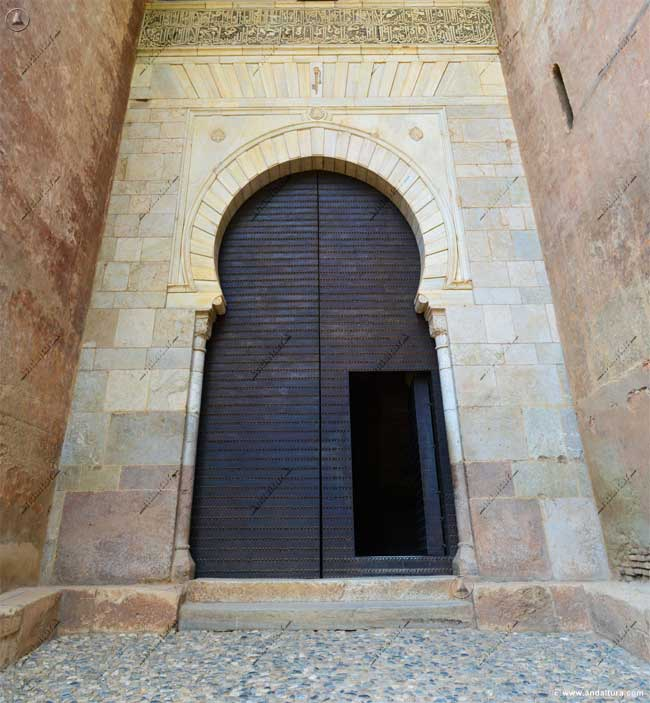arco-herradura: (185, 143, 458, 336)
dintel-adovelado: (160, 57, 467, 102)
